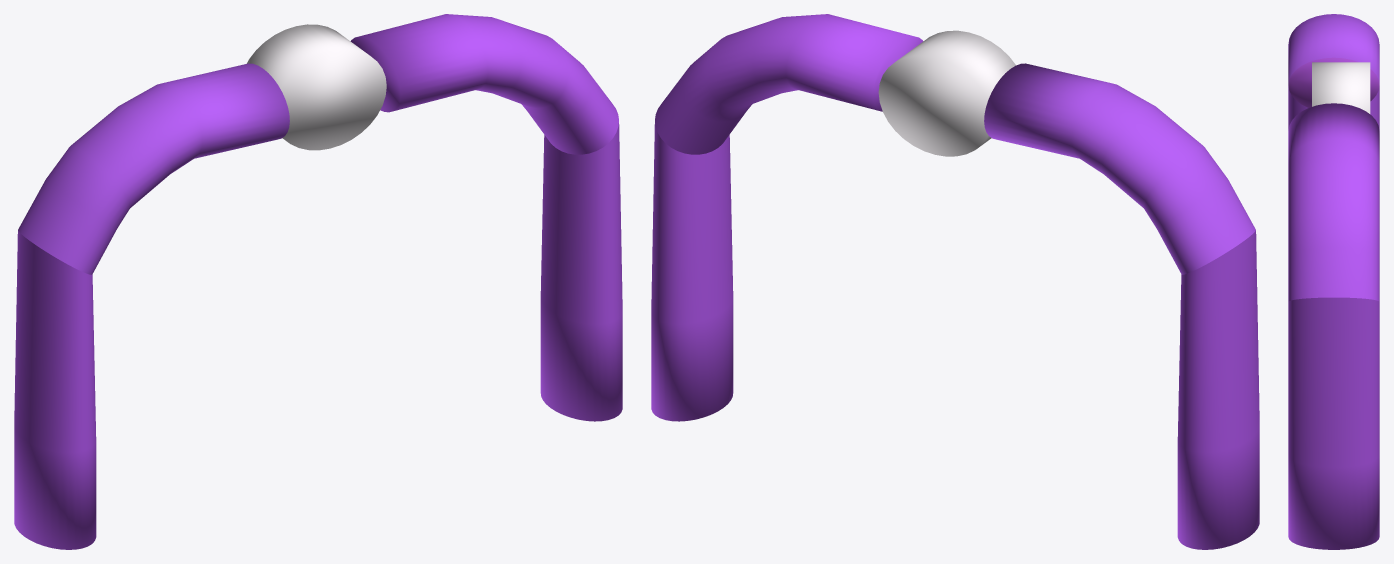
The model's file is metafinal.fbx.
3 views of the same model, side by side, from view 1: azimuth 30°, elevation 25°; view 2: azimuth 150°, elevation 25°; view 3: azimuth 270°, elevation 25° (orthographic). The views are drawn at different scales.
Visible parts, largest first — view 1: Cylinder.007, Cylinder.010, Cylinder.011, Cylinder, Circle; view 2: Cylinder.007, Cylinder.010, Cylinder.011, Cylinder, Circle; view 3: Cylinder.011, Cylinder, Cylinder.007, Circle, Cylinder.010.
Boxes of the visible parts, box(x1,y1,x2,y2) form: Cylinder.007: box(18, 63, 289, 274); Cylinder.010: box(14, 230, 96, 549); Cylinder.011: box(540, 123, 622, 421); Cylinder: box(350, 14, 618, 154); Circle: box(246, 24, 386, 150); Cylinder.007: box(984, 63, 1255, 274); Cylinder.010: box(1177, 230, 1259, 549); Cylinder.011: box(651, 123, 733, 421); Cylinder: box(655, 14, 923, 154); Circle: box(878, 30, 1015, 156); Cylinder.011: box(1288, 297, 1379, 549); Cylinder: box(1288, 103, 1379, 301); Cylinder.007: box(1288, 14, 1379, 107); Circle: box(1312, 62, 1370, 113); Cylinder.010: box(1288, 86, 1379, 130).
Bounding box in the file's own units: 1267 × 870 × 200.
3 materials, 3 textured.
